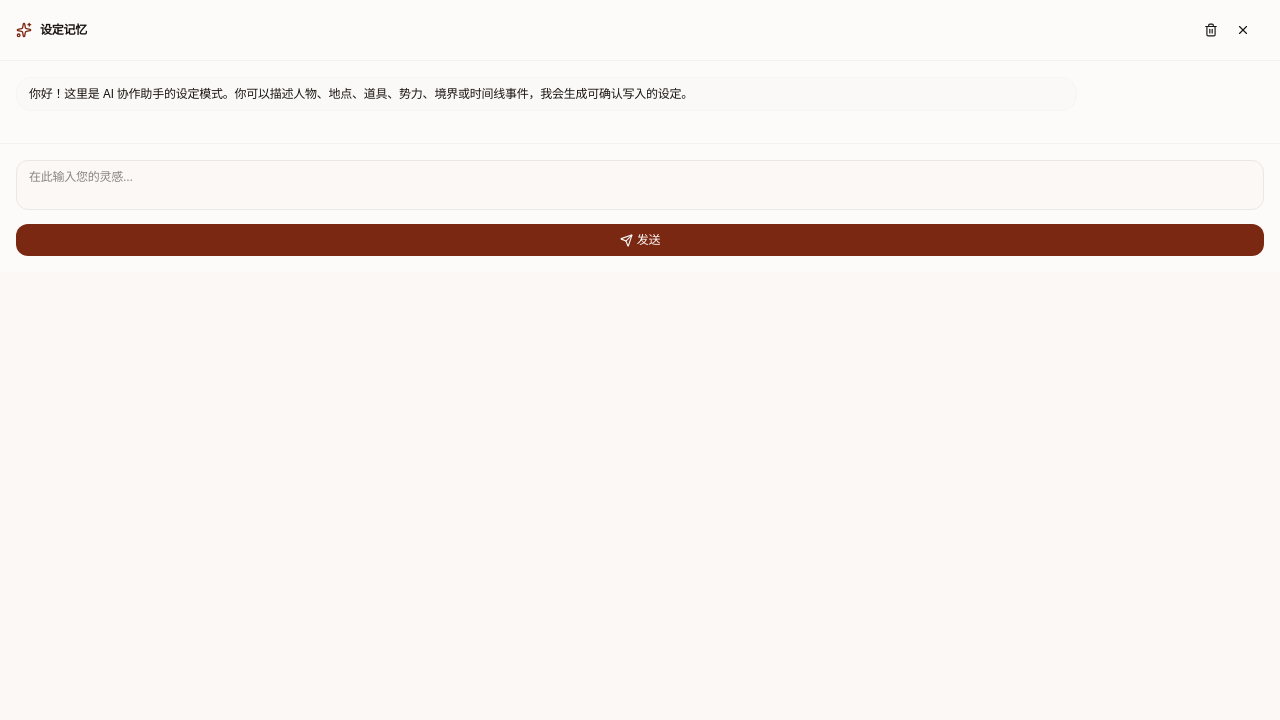
Test case: WorldBibleAssistant continuation batch sync › SSE 配置错误保留错误码并提供设置入口
In the text box named "输入设定灵感": (640, 185) [16, 160, 1264, 210], type "处理资料包中的设定"
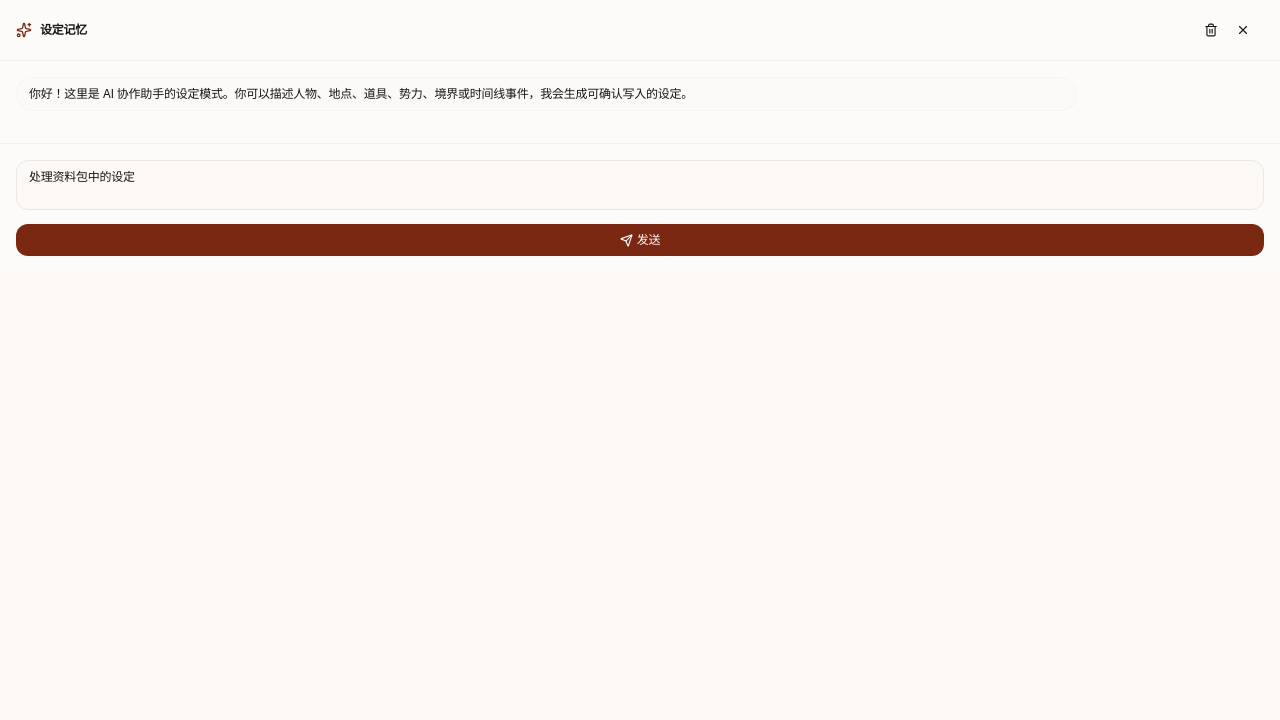
Click the button with aria-label "发送设定灵感": (640, 240) [16, 224, 1264, 256]
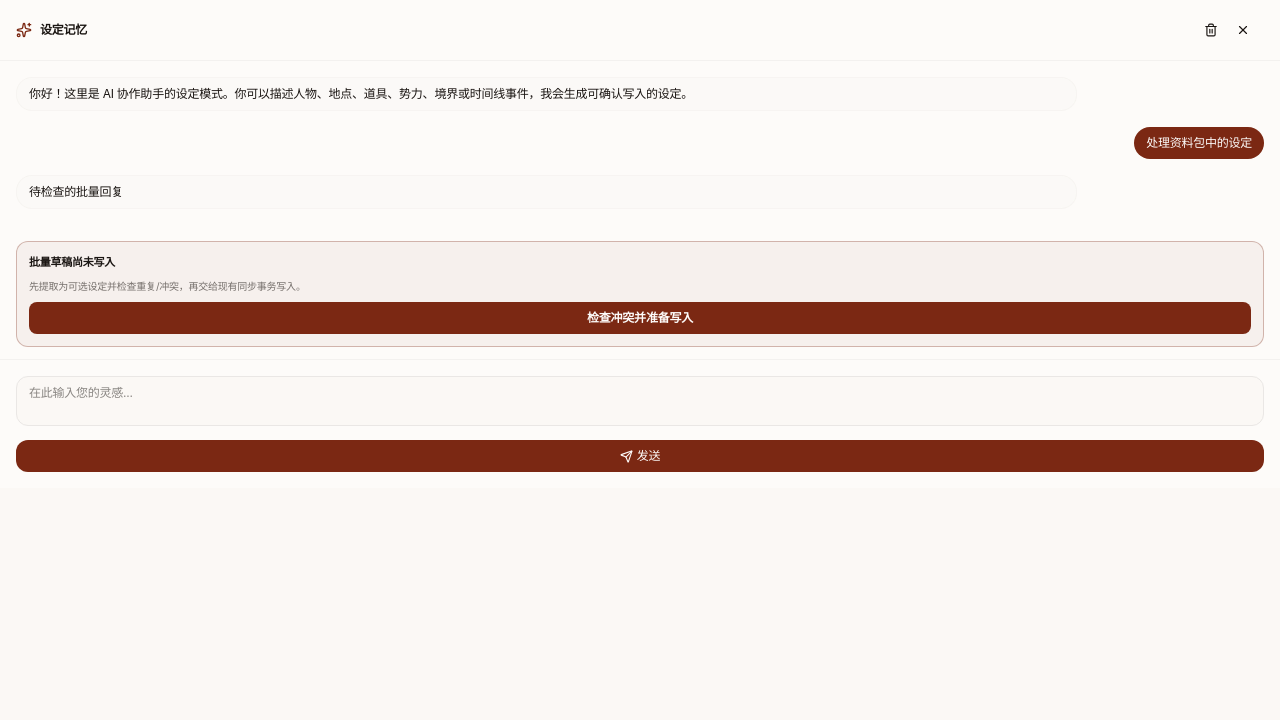
Check: the text "待检查的批量回复" is shown, box [29, 184, 123, 199]
Click the button "检查冲突并准备写入": (640, 318) [29, 302, 1251, 334]
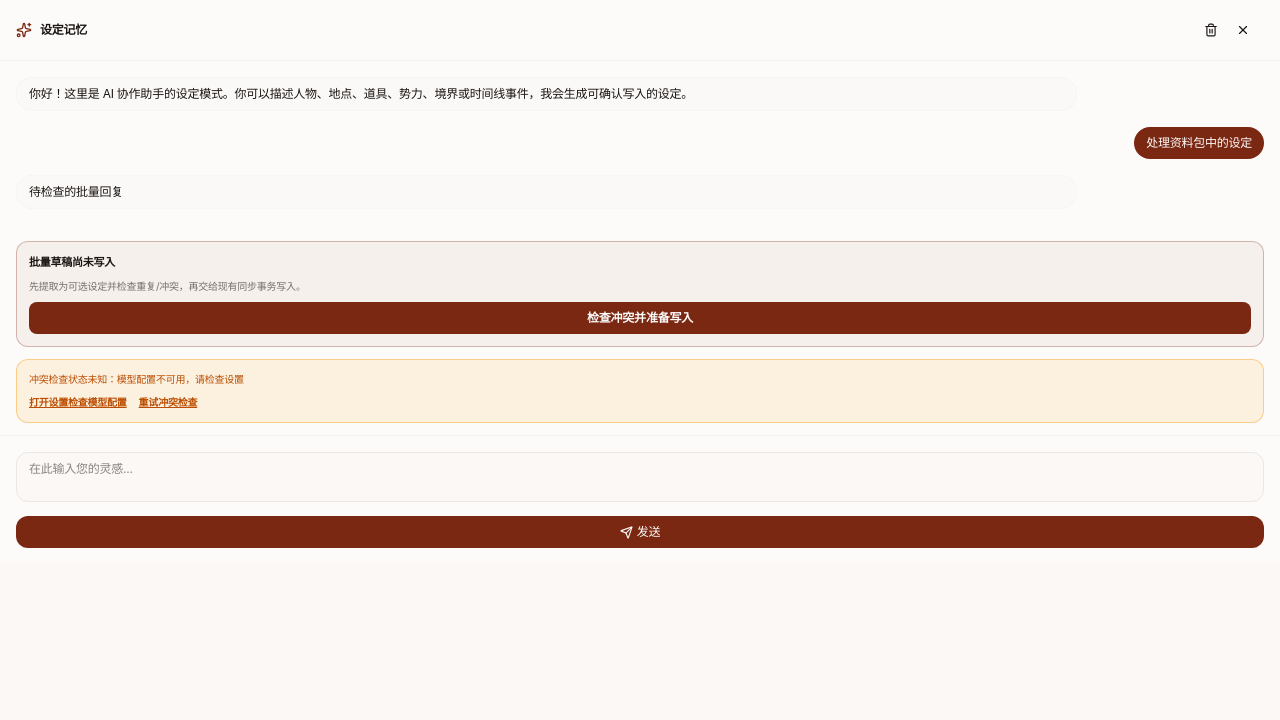
Check: the text "冲突检查状态未知：模型配置不可用，请检查设置" is shown, box [29, 372, 244, 384]
Check: the button "打开设置检查模型配置" is shown, box [29, 394, 127, 410]
